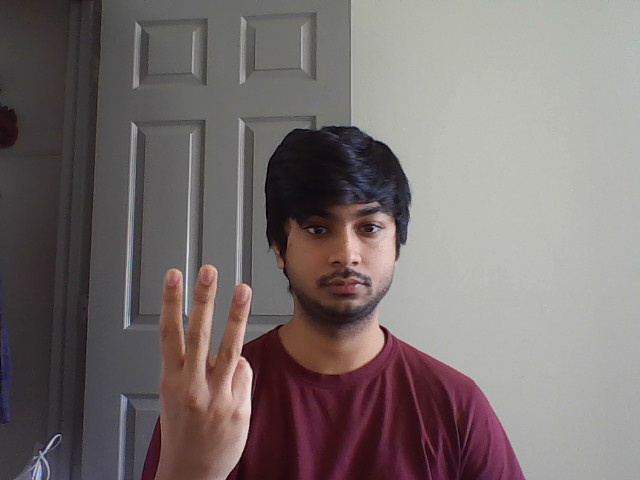three: (154, 261, 253, 407)
